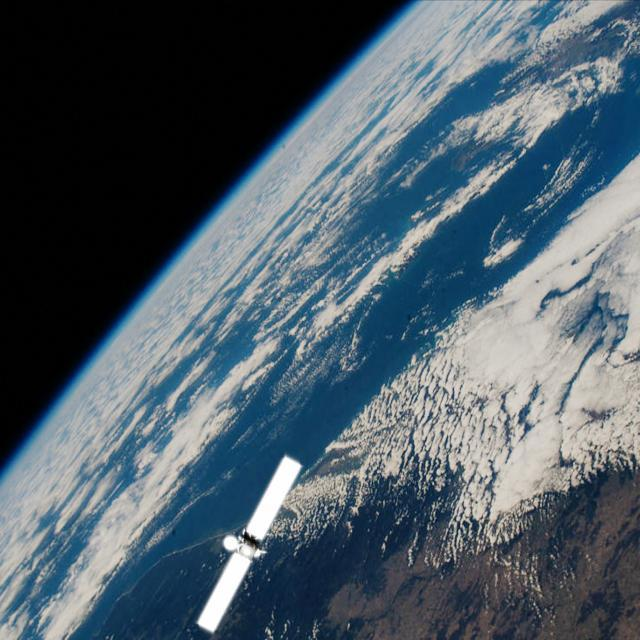satellite: (190, 446, 318, 640)
